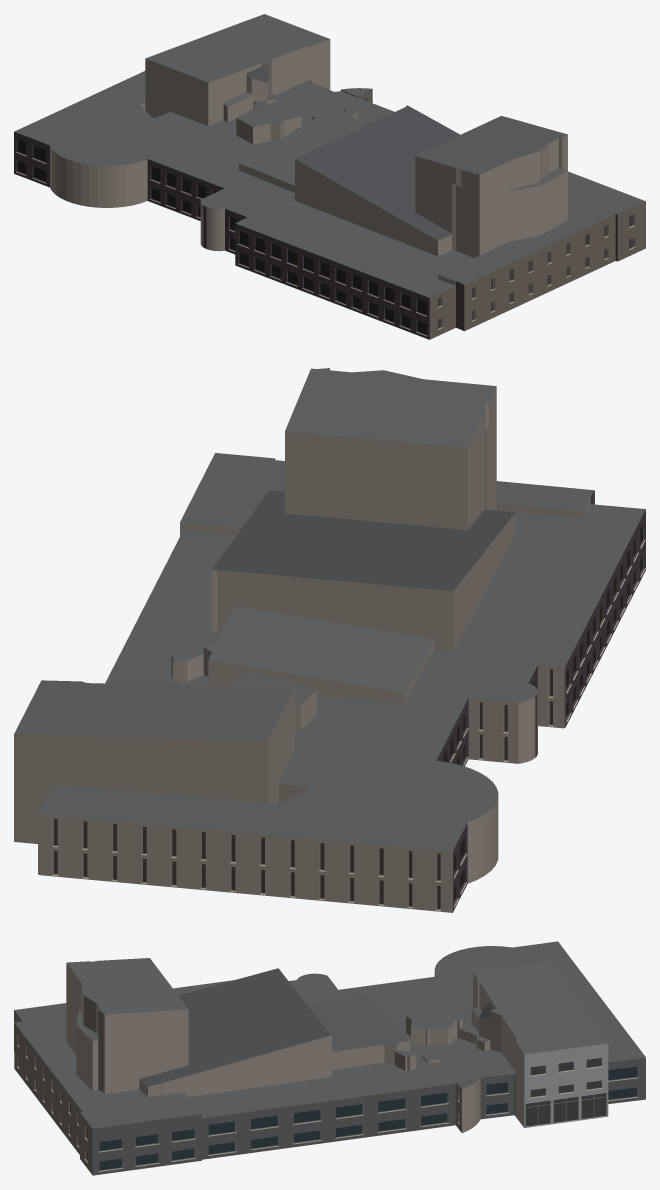
File: recipe-large-oba-osdorp.glb
3 renders of one model, top to bottom at view 1: azimuth 30°, elevation 25°; view 2: azimuth 150°, elevation 25°; view 3: azimuth 270°, elevation 25°, orthographic. The views are drawn at different scales.
Visible parts, largest first — view 1: oba-osdorp; view 2: oba-osdorp; view 3: oba-osdorp.
Part boxes in pixels (x1,y1,x2,y2): oba-osdorp: [14, 14, 645, 339]; oba-osdorp: [14, 368, 645, 912]; oba-osdorp: [14, 941, 645, 1175].
Bounding box in the file's own units: 76.19 × 23.36 × 106.
